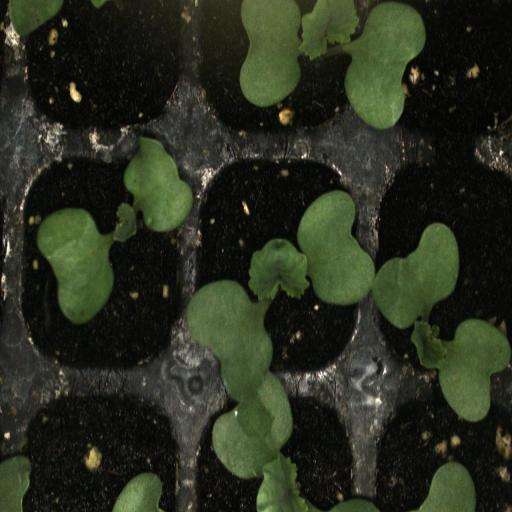Folha: (416, 460, 476, 512)
Germinacao: (187, 145, 370, 386), (16, 154, 189, 370), (371, 148, 512, 385), (192, 0, 376, 141), (187, 376, 366, 512)
